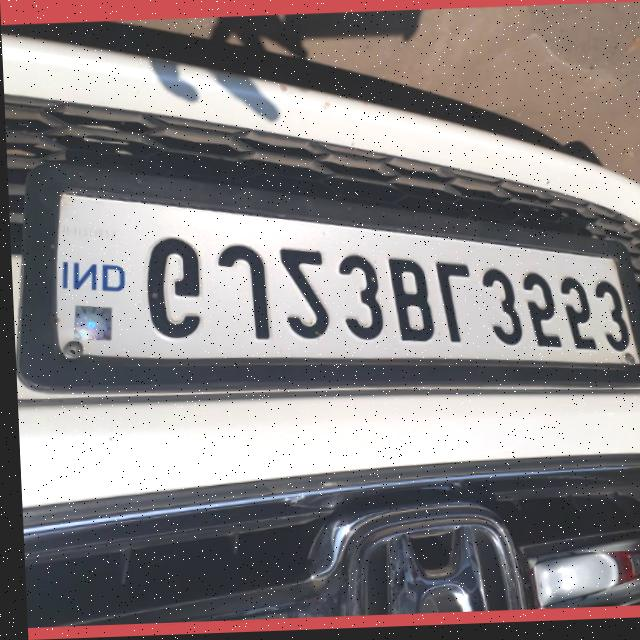plate: (5, 136, 640, 418)
